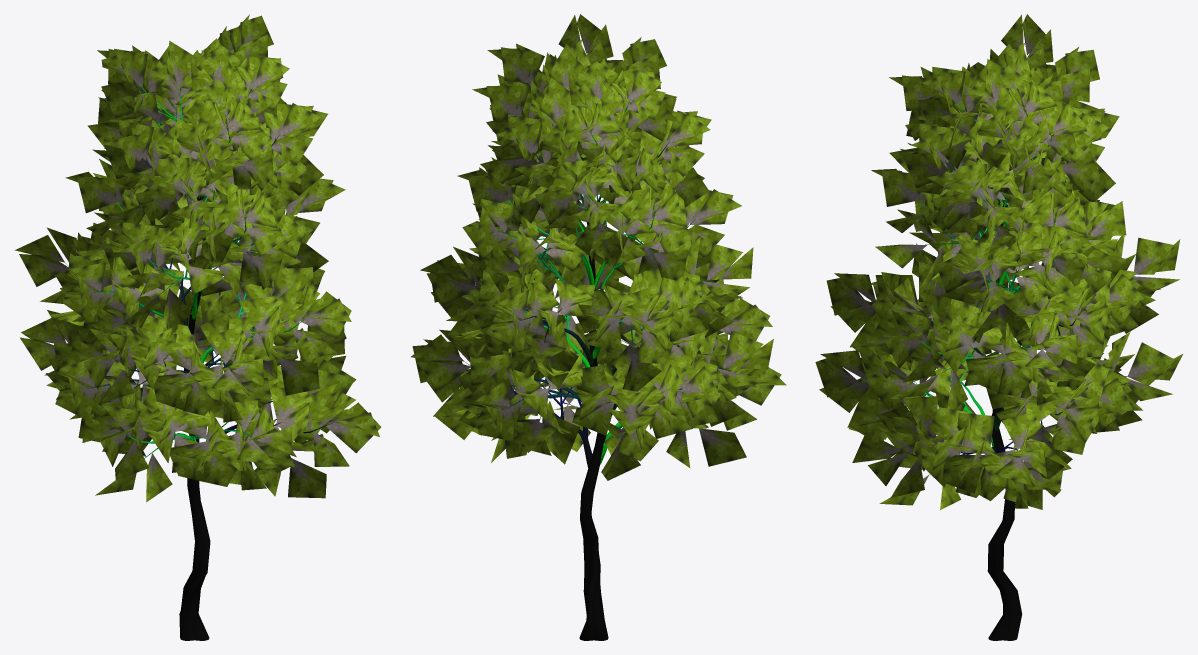
Rendered from ElmTree03.fbx.
The picture shows the model from 3 angles, left to right: view 1: azimuth 30°, elevation 25°; view 2: azimuth 150°, elevation 25°; view 3: azimuth 270°, elevation 25°; orthographic projection.
Parts seen in each view (by area): view 1: Tree_1, Tree_0; view 2: Tree_1, Tree_0; view 3: Tree_1, Tree_0.
Boxes of the visible parts, bbox=[...] form: Tree_1: bbox=[15, 14, 380, 502]; Tree_0: bbox=[63, 84, 332, 640]; Tree_1: bbox=[411, 14, 786, 480]; Tree_0: bbox=[462, 51, 722, 640]; Tree_1: bbox=[815, 14, 1182, 509]; Tree_0: bbox=[859, 102, 1127, 640].
Size of the model in its own units: 58.69 by 104 by 58.86.
